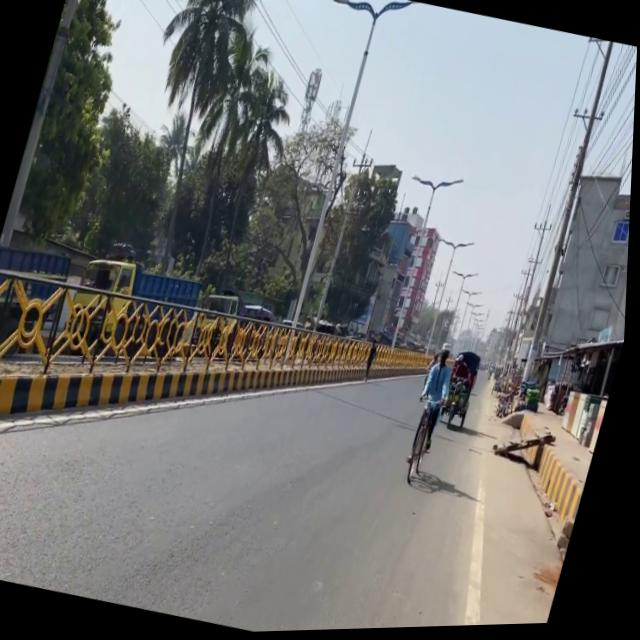Construction-barrier: (517, 408, 607, 551)
Fallen-tree: (495, 391, 520, 422)
Garbage: (493, 423, 561, 475)
Garbage-bin: (406, 347, 464, 469)
Pole: (0, 245, 351, 493)
Pothole: (409, 368, 613, 630)
Traffic-cone: (60, 233, 212, 372), (188, 282, 285, 368)
